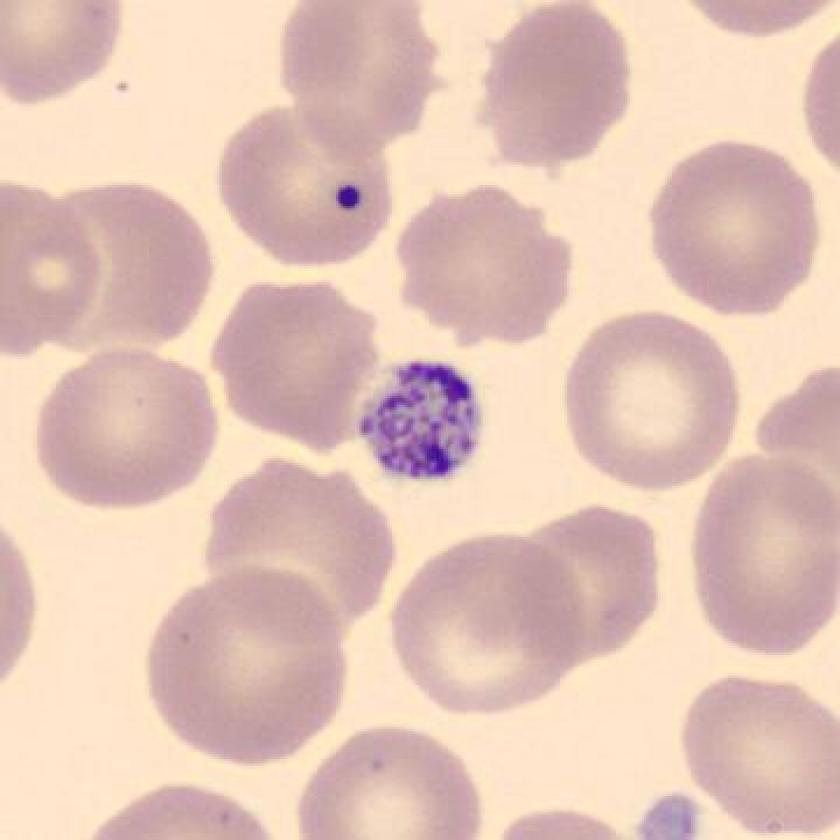platelets: (346, 355, 496, 492)
